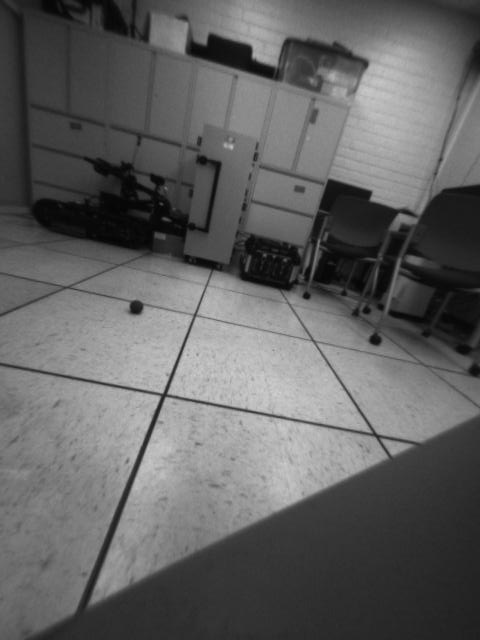dogtoy: (125, 293, 151, 319)
